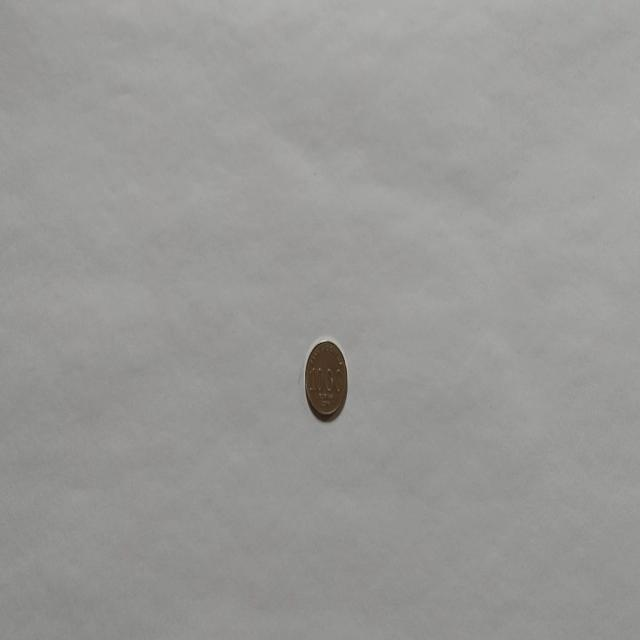seribu rupiah koin: (304, 336, 348, 422)
